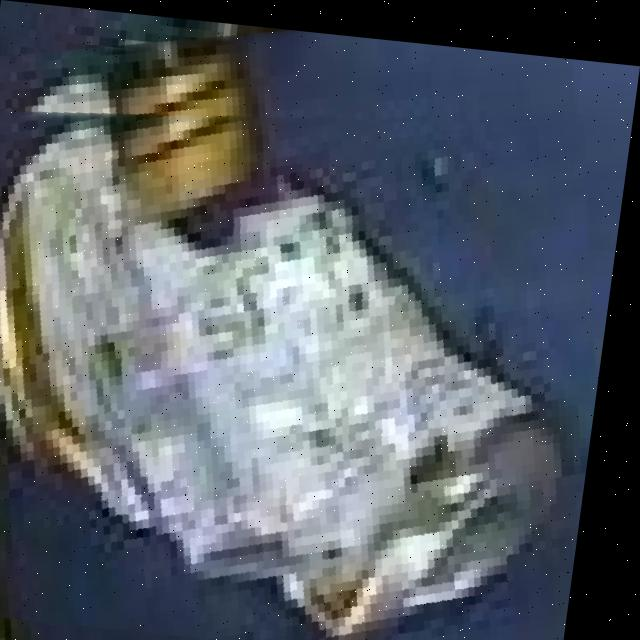litter: (0, 100, 597, 640)
